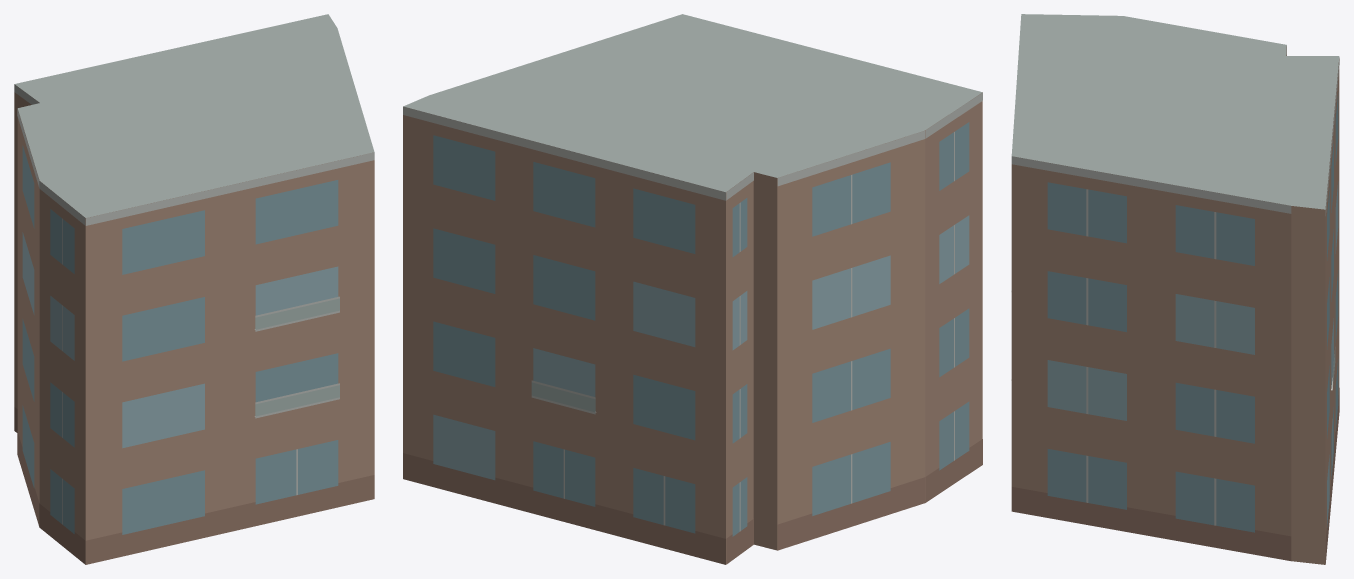
Rendered from survey-upis-32531373.glb.
3 views of the same model, side by side, from view 1: azimuth 30°, elevation 25°; view 2: azimuth 150°, elevation 25°; view 3: azimuth 270°, elevation 25° (orthographic). The views are drawn at different scales.
Parts seen in each view (by area): view 1: survey-upis-32531373.tmp; view 2: survey-upis-32531373.tmp; view 3: survey-upis-32531373.tmp.
Boxes of the visible parts, <box> form: survey-upis-32531373.tmp: <box>14,14,374,564</box>; survey-upis-32531373.tmp: <box>403,14,982,564</box>; survey-upis-32531373.tmp: <box>1011,14,1339,564</box>.
Bounding box in the file's own units: 12.64 × 10.7 × 8.96.
